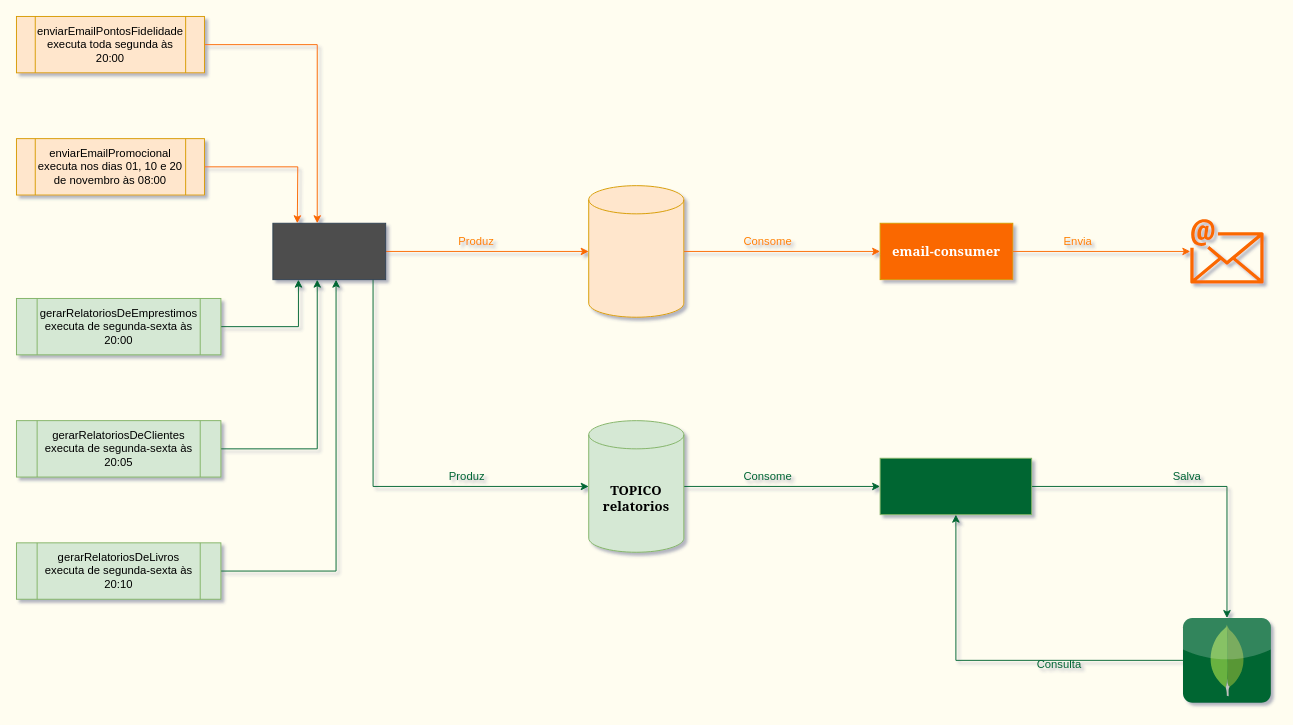
The diagram is 1293 pixels wide and 725 high, and some of its shapes have lost their labels. Each missing label, with the centre of its shape:
"biblioteca-api" belongs at point 329,251.
"relatorio-consumer" belongs at point 955,486.
"TOPICO enviar-email" belongs at point 636,251.
